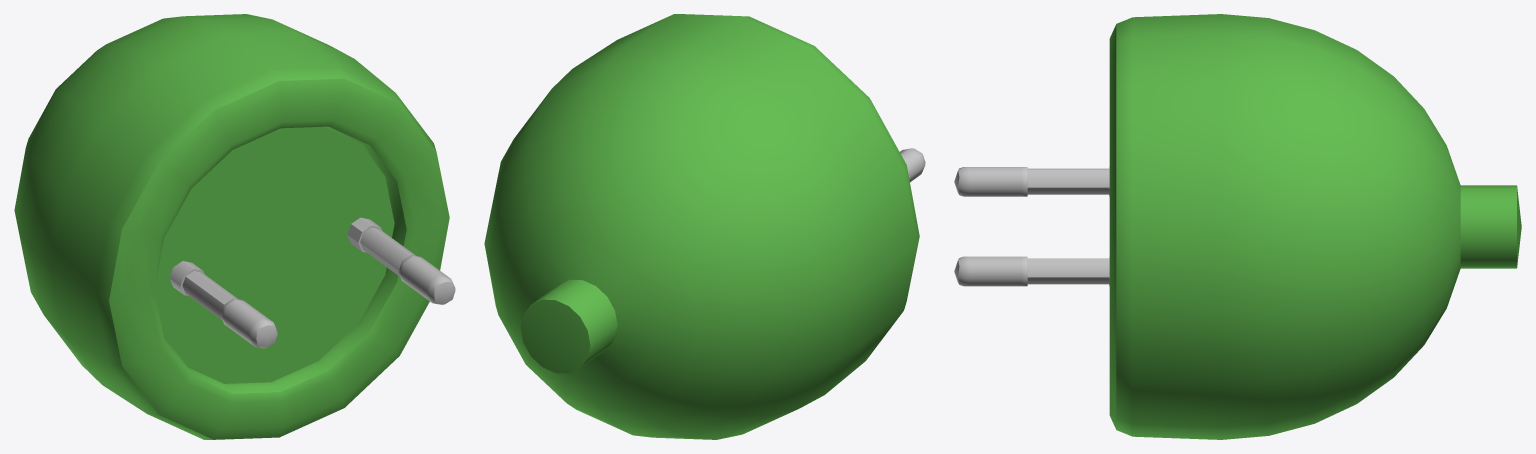
Rendered from plug.fbx.
The picture shows the model from 3 angles, left to right: view 1: azimuth 30°, elevation 25°; view 2: azimuth 150°, elevation 25°; view 3: azimuth 270°, elevation 25°; orthographic projection. The views are drawn at different scales.
Visible parts, largest first — view 1: Sphere; view 2: Sphere; view 3: Sphere.
Boxes of the visible parts, box(x1,y1,x2,y2) form: Sphere: box(14, 14, 455, 439); Sphere: box(484, 14, 925, 439); Sphere: box(954, 14, 1521, 439).
Size of the model in its own units: 42 by 42 by 55.9.
